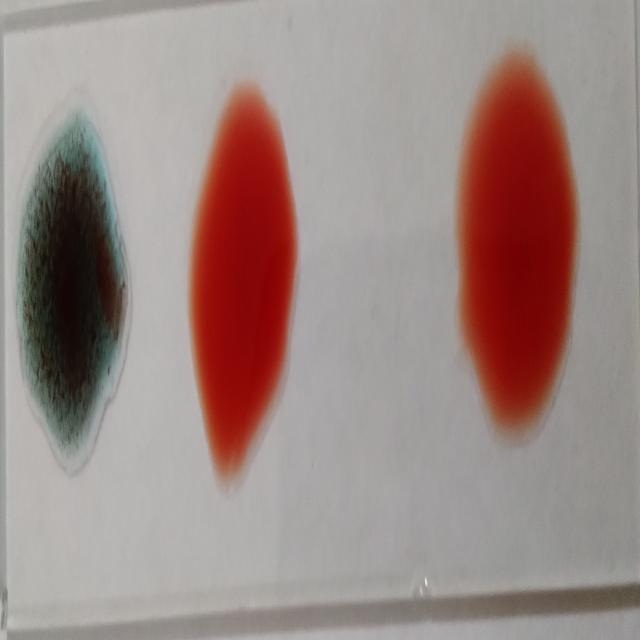A: (13, 126, 127, 473)
